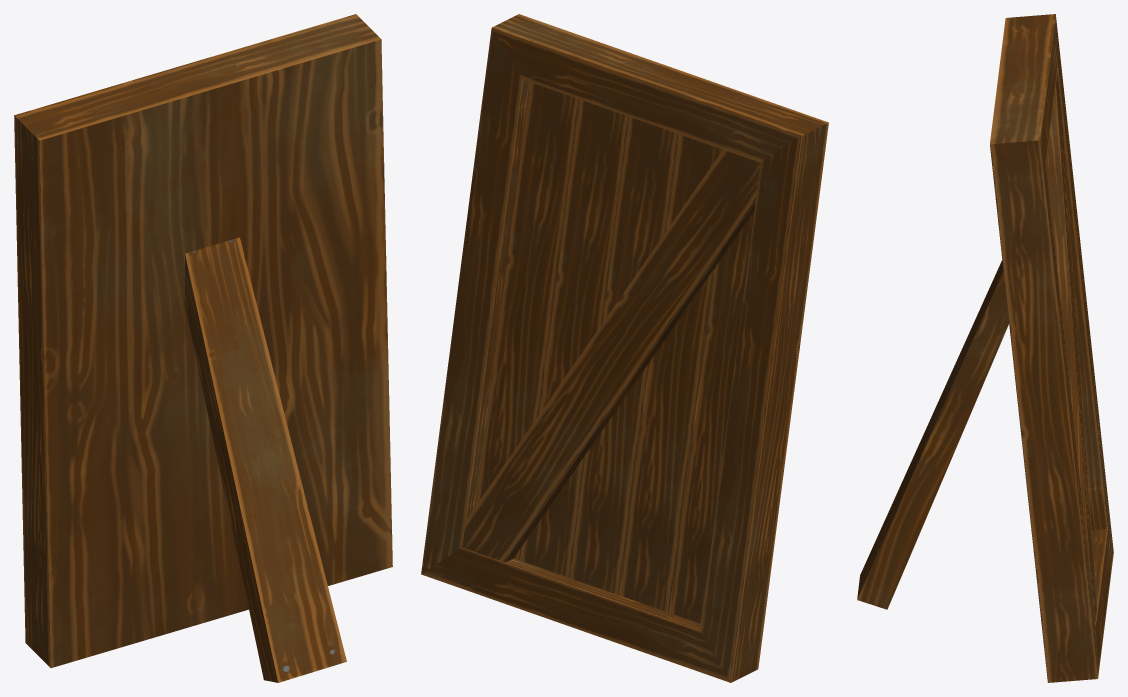
The picture shows the model from 3 angles, left to right: view 1: azimuth 30°, elevation 25°; view 2: azimuth 150°, elevation 25°; view 3: azimuth 270°, elevation 25°; orthographic projection. The views are drawn at different scales.
Visible parts, largest first — view 1: Cube.1874; view 2: Cube.1874; view 3: Cube.1874.
Part boxes in pixels (x1,y1,x2,y2): Cube.1874: (14,14,392,682); Cube.1874: (421,14,828,682); Cube.1874: (857,14,1113,682).
Bounding box in the file's own units: 237 × 355 × 150.
1 material, 1 textured.
